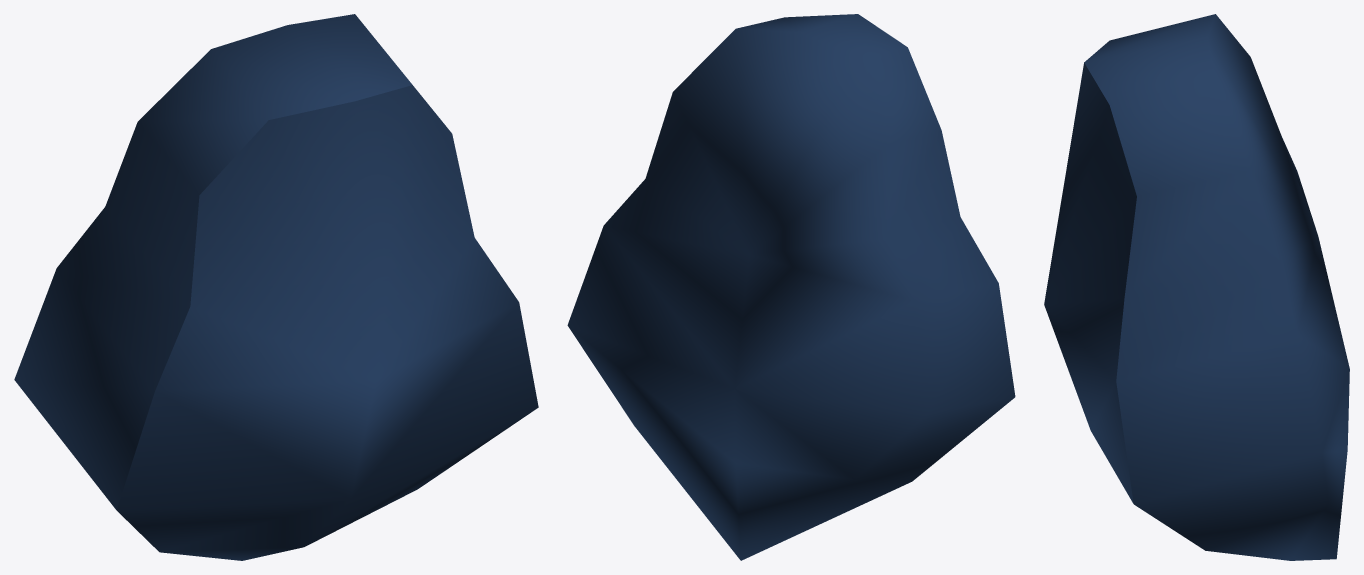
Rendered from Beard_Blue_2.fbx.
3 views of the same model, side by side, from view 1: azimuth 30°, elevation 25°; view 2: azimuth 150°, elevation 25°; view 3: azimuth 270°, elevation 25° (orthographic). The views are drawn at different scales.
Visible parts, largest first — view 1: Beard_Blue_2; view 2: Beard_Blue_2; view 3: Beard_Blue_2.
Part boxes in pixels (x1,y1,x2,y2): Beard_Blue_2: (14,14,538,560); Beard_Blue_2: (567,14,1015,560); Beard_Blue_2: (1044,14,1349,560).
Bounding box in the file's own units: 9.51 × 12.25 × 6.48.
